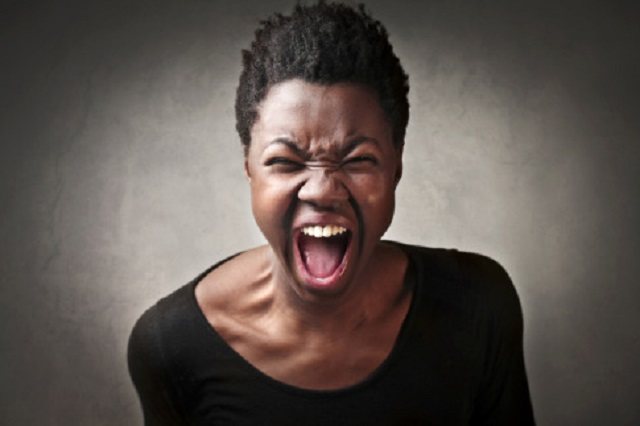angry: (257, 118, 392, 305)
